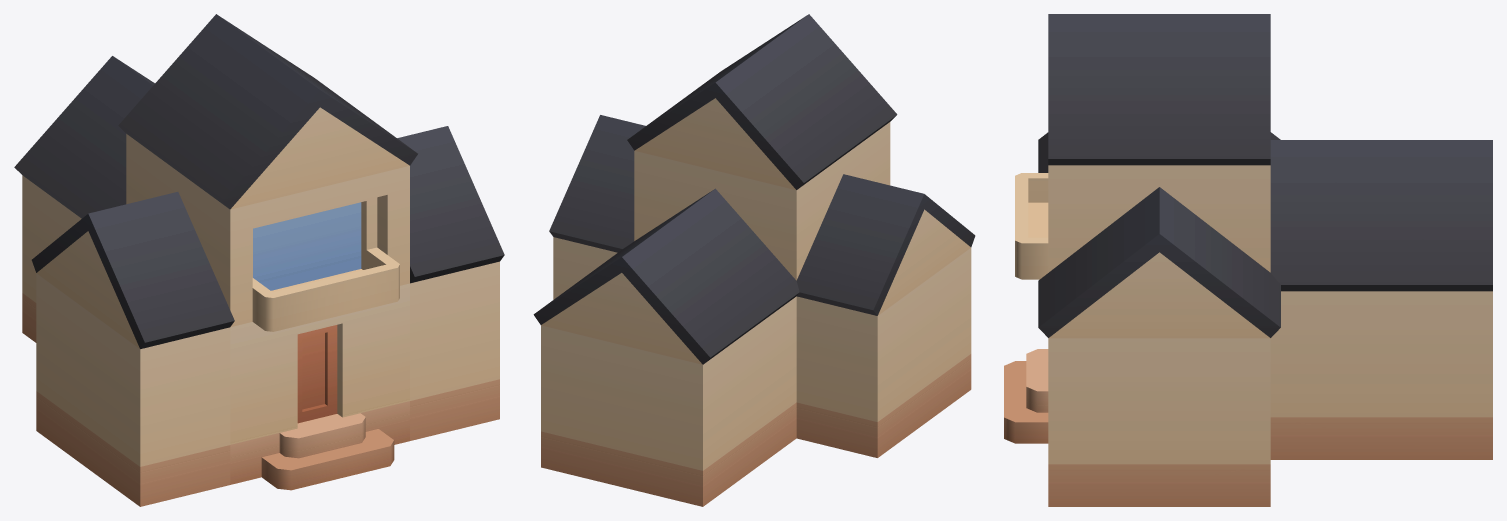
File: building-sample-house-c.glb
The picture shows the model from 3 angles, left to right: view 1: azimuth 30°, elevation 25°; view 2: azimuth 150°, elevation 25°; view 3: azimuth 270°, elevation 25°; orthographic projection. The views are drawn at different scales.
Parts seen in each view (by area): view 1: building-sample-house-c; view 2: building-sample-house-c; view 3: building-sample-house-c.
Part boxes in pixels (x1,y1,x2,y2): building-sample-house-c: (14, 14, 504, 506); building-sample-house-c: (533, 14, 975, 506); building-sample-house-c: (1004, 14, 1492, 506).
Bounding box in the file's own units: 2 × 1.98 × 2.2.
1 material, 1 textured.
